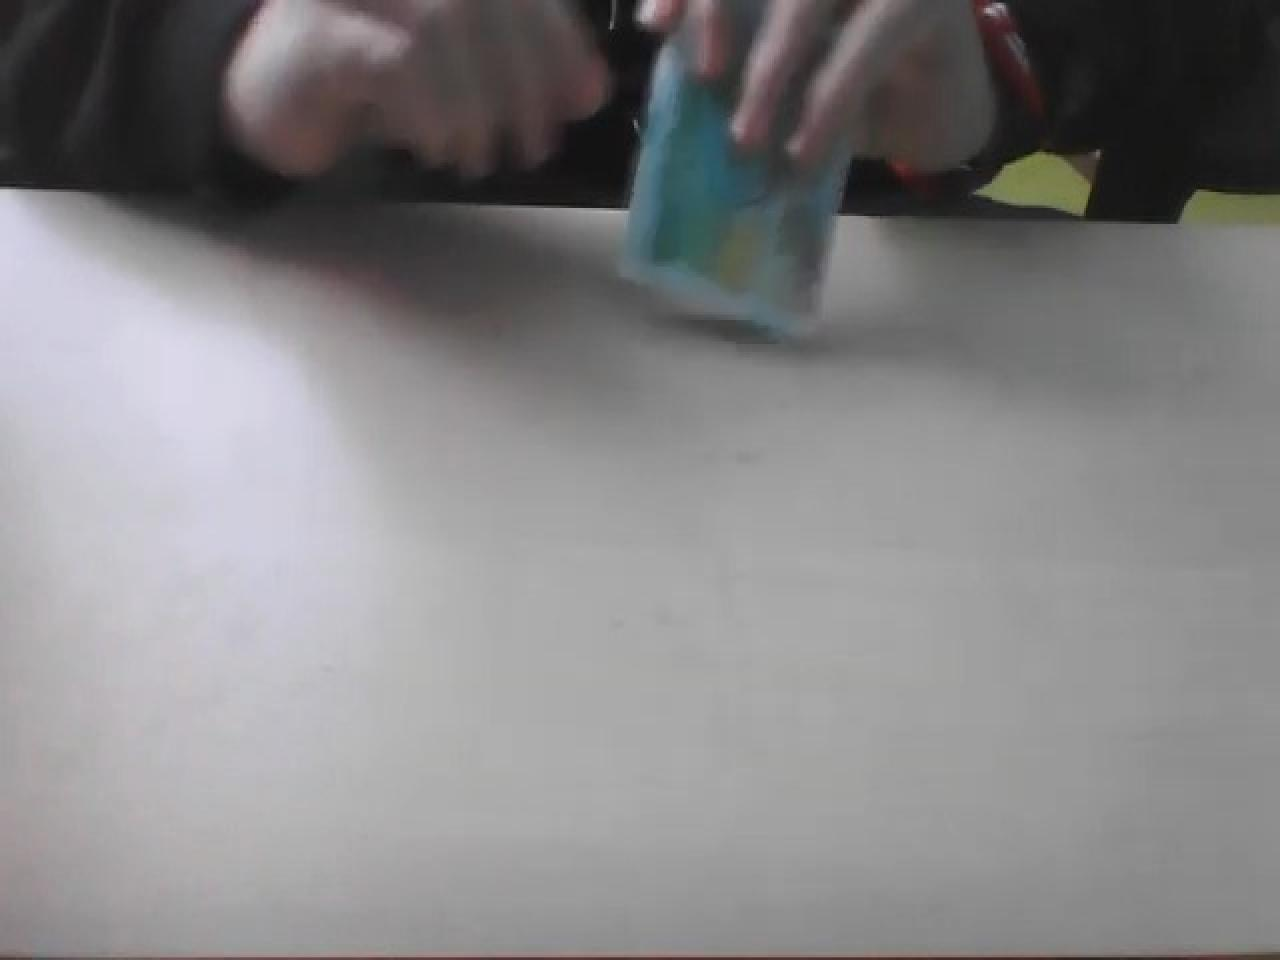100leva: (618, 34, 854, 341)
